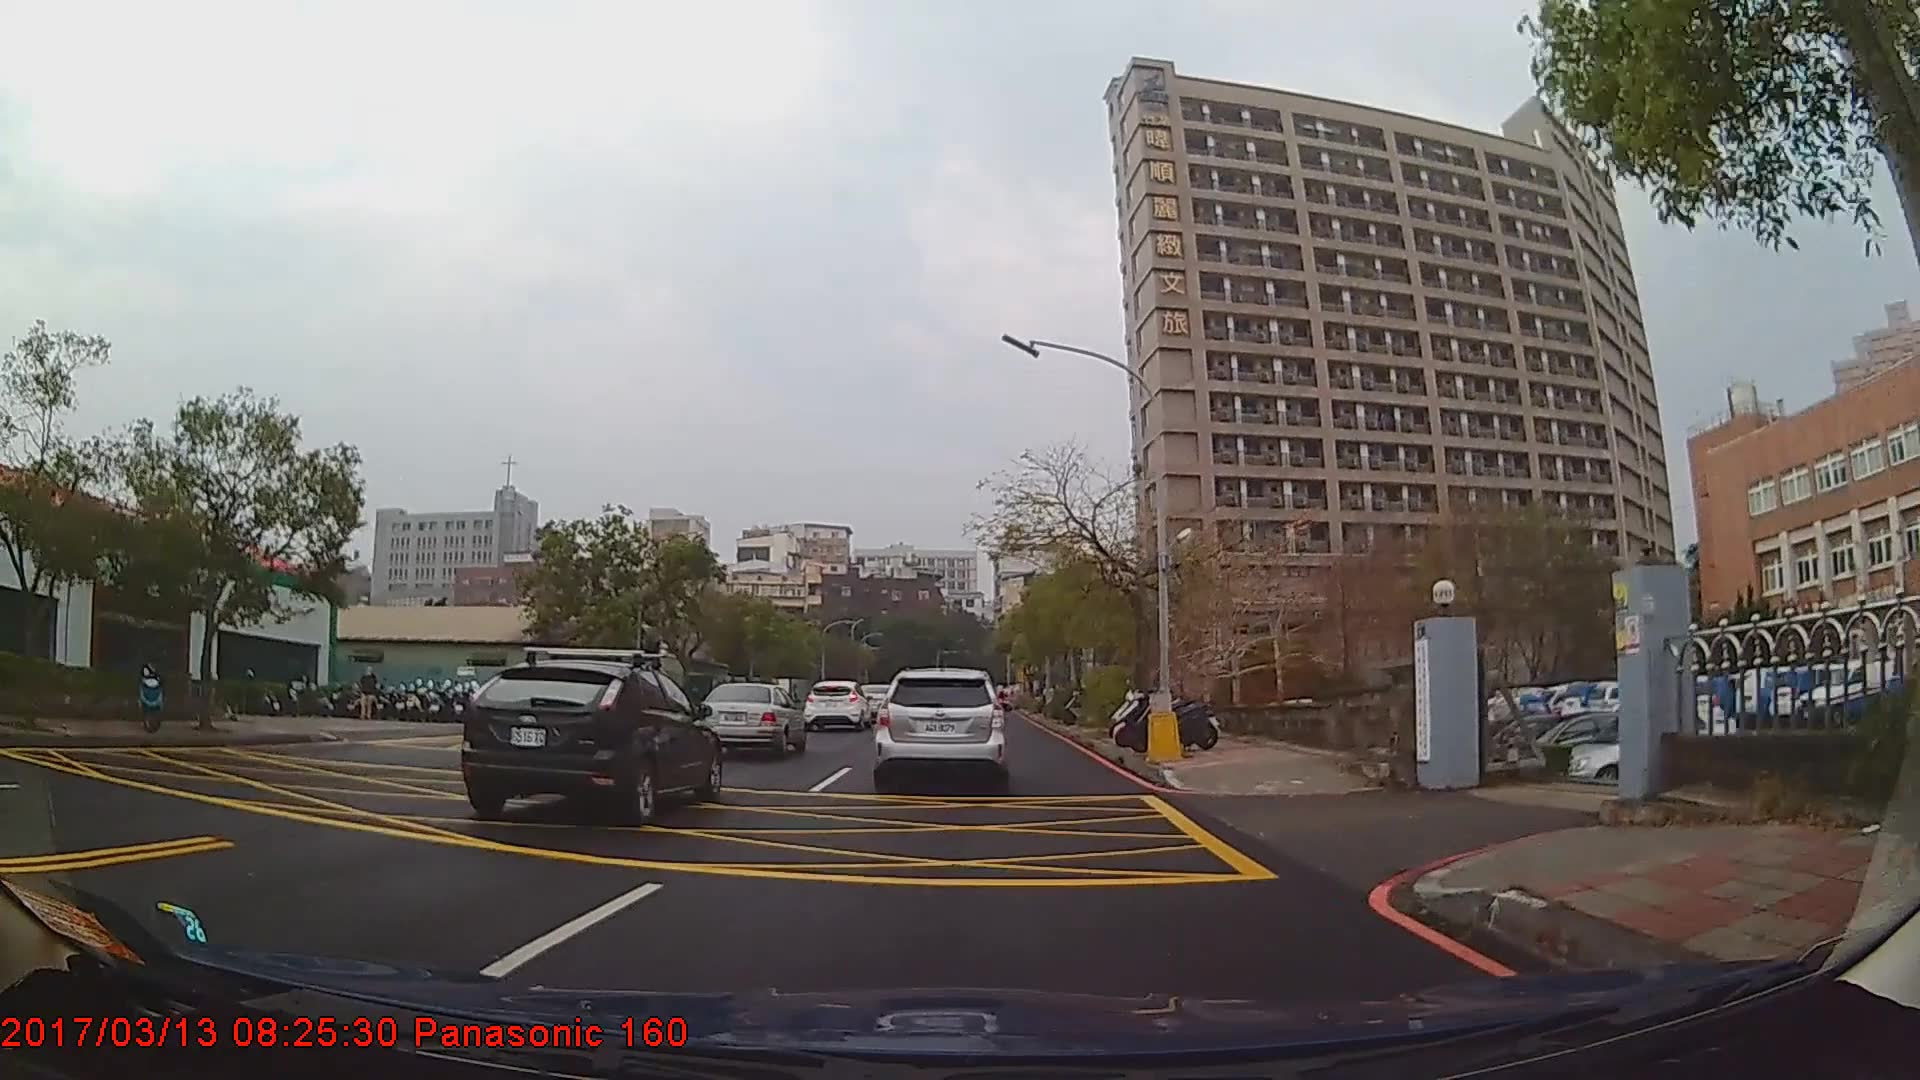pedestrian: (360, 665, 380, 723)
vehicle: (458, 660, 720, 827), (875, 667, 1005, 787), (697, 681, 807, 759), (803, 678, 871, 731)
